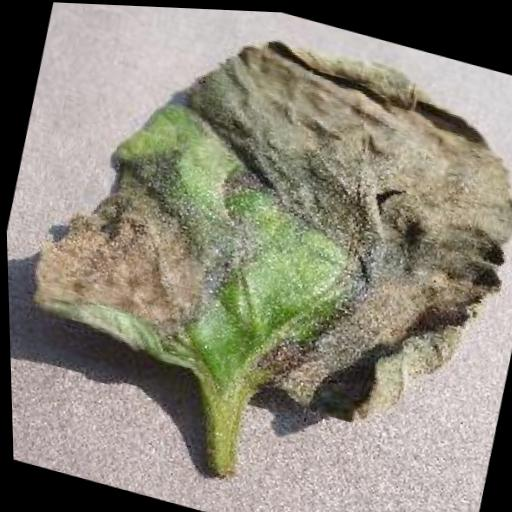Late Blight: (8, 0, 512, 455)
